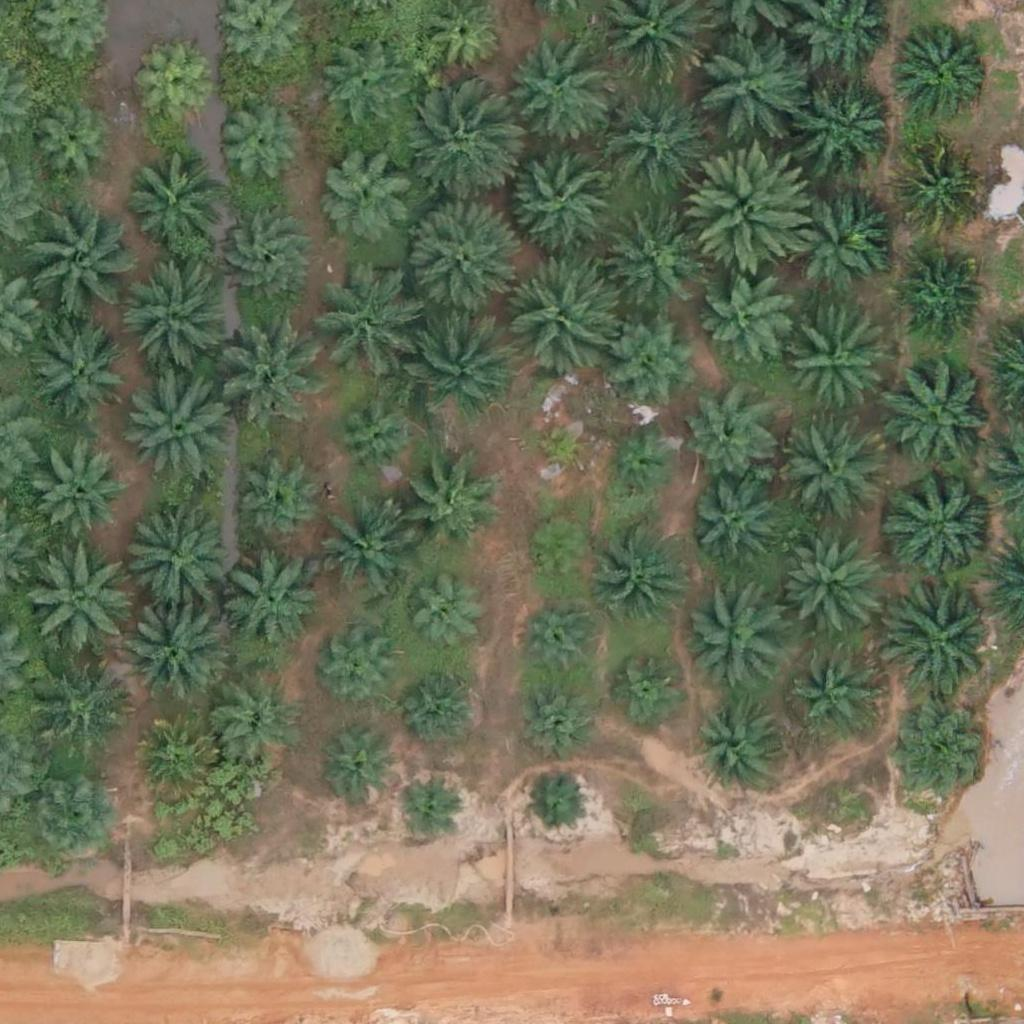Kelapa_Sawit: (690, 147, 815, 273), (692, 25, 805, 139), (116, 368, 229, 482), (882, 357, 995, 470), (886, 468, 999, 581), (598, 85, 711, 198), (505, 140, 618, 253), (402, 201, 515, 314), (121, 595, 234, 708), (113, 499, 226, 612), (402, 303, 514, 417), (119, 264, 231, 378), (21, 541, 133, 655), (885, 580, 997, 693), (498, 41, 610, 154), (503, 258, 615, 371), (400, 92, 512, 205), (213, 309, 325, 422), (17, 203, 129, 316), (892, 18, 992, 119), (888, 707, 988, 808), (799, 77, 899, 178), (785, 314, 885, 415), (780, 426, 880, 527), (776, 534, 876, 635), (602, 206, 702, 307), (604, 307, 704, 408), (396, 455, 496, 556), (310, 504, 410, 605), (310, 276, 410, 377), (220, 552, 320, 653), (123, 152, 223, 253), (26, 320, 126, 421), (28, 657, 128, 758), (595, 521, 695, 622), (784, 184, 884, 284), (687, 586, 787, 686), (317, 142, 417, 242), (215, 210, 315, 310), (891, 142, 979, 230), (684, 394, 772, 482), (509, 677, 597, 765), (128, 715, 216, 803), (331, 393, 419, 481), (38, 453, 126, 541), (687, 481, 774, 570), (317, 41, 404, 130), (894, 250, 981, 338), (794, 652, 881, 740), (696, 701, 783, 789), (702, 274, 789, 362), (519, 596, 606, 684), (214, 100, 301, 188), (236, 462, 323, 550), (213, 682, 300, 770), (27, 104, 114, 192), (29, 774, 116, 862), (402, 579, 477, 655), (404, 667, 479, 743), (603, 427, 678, 503), (522, 514, 597, 590), (136, 50, 211, 126), (610, 649, 685, 724), (322, 634, 397, 709), (320, 734, 395, 809), (393, 775, 456, 838), (526, 771, 588, 834), (529, 415, 591, 478)
